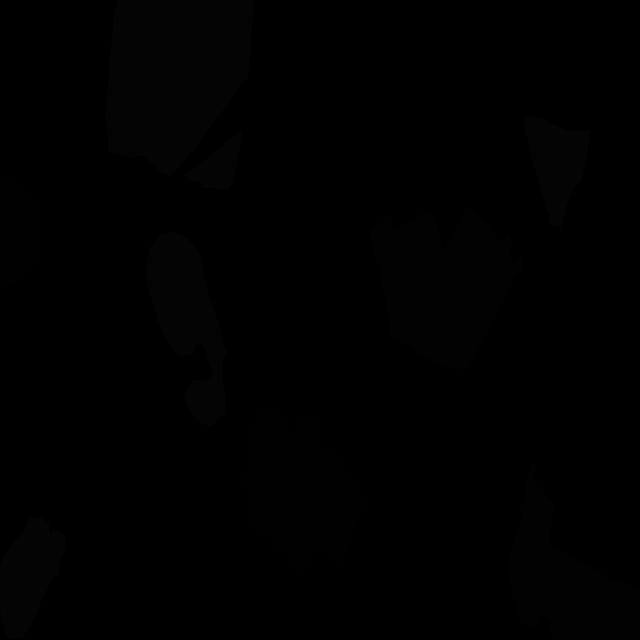cardboard: (370, 207, 524, 370), (524, 458, 640, 640), (508, 493, 550, 628)
rigid_plastic: (245, 406, 368, 575), (0, 176, 42, 289)
soft_plastic: (105, 0, 254, 176), (146, 231, 229, 427), (0, 517, 66, 639), (523, 116, 591, 228), (184, 129, 242, 190)
